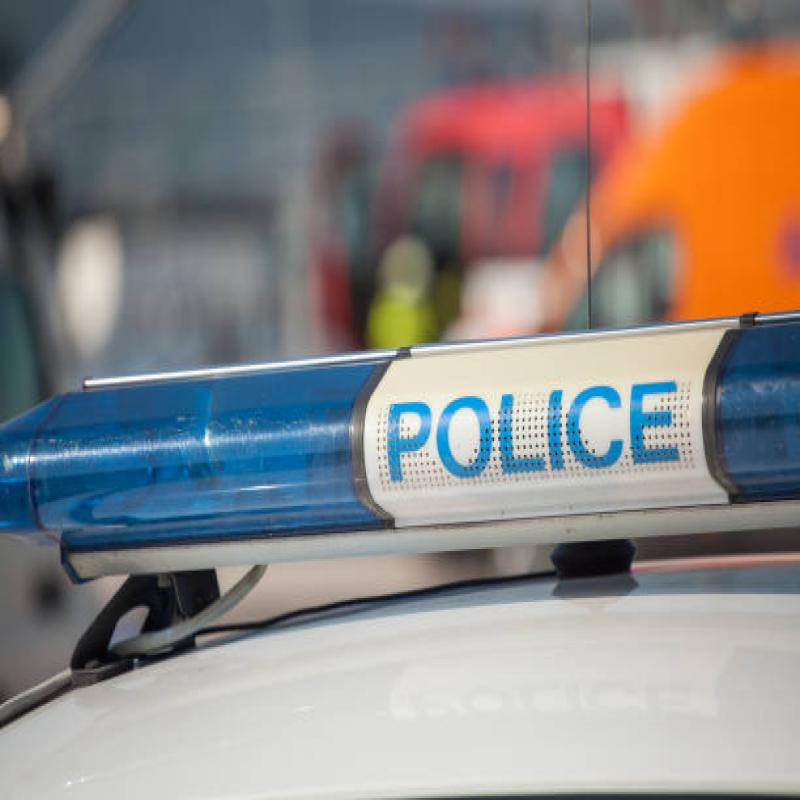AmbulanceSiren: (1, 276, 800, 622)
